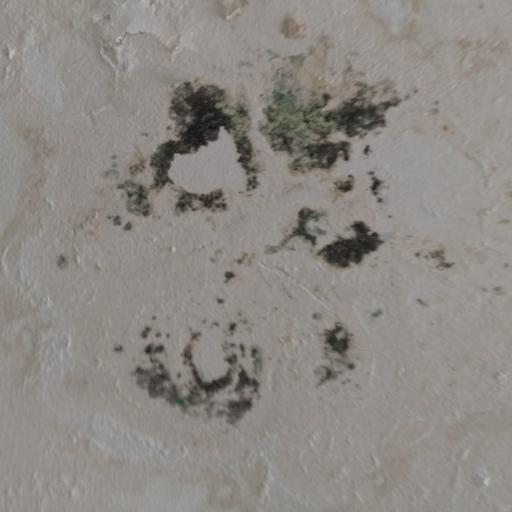algae: (108, 66, 421, 444)
